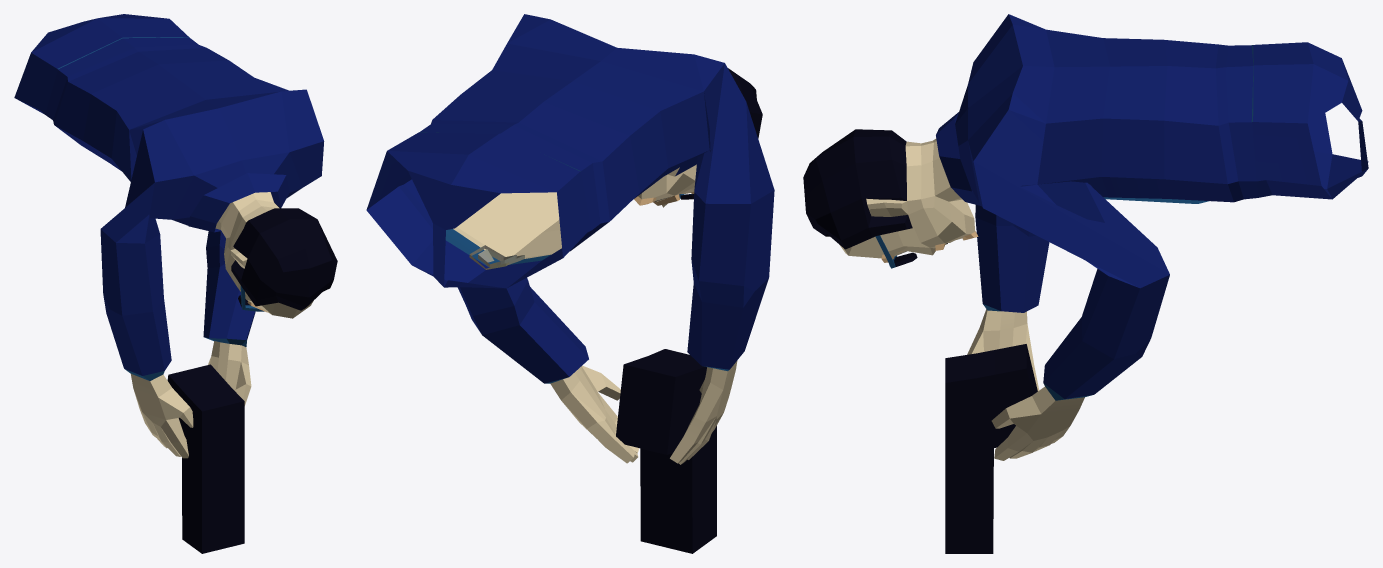
The model's file is 163_enemy_cop.gltf.
3 views of the same model, side by side, from view 1: azimuth 30°, elevation 25°; view 2: azimuth 150°, elevation 25°; view 3: azimuth 270°, elevation 25° (orthographic). The views are drawn at different scales.
Visible parts, largest first — view 1: enemy_cop; view 2: enemy_cop; view 3: enemy_cop.
Boxes of the visible parts, x1,y1,x2,y2 form: enemy_cop: [14, 14, 337, 553]; enemy_cop: [366, 14, 774, 553]; enemy_cop: [803, 14, 1368, 553].
Size of the model in its own units: 1.04 by 1.88 by 1.93.
Materials: 1 (1 with a texture image).
